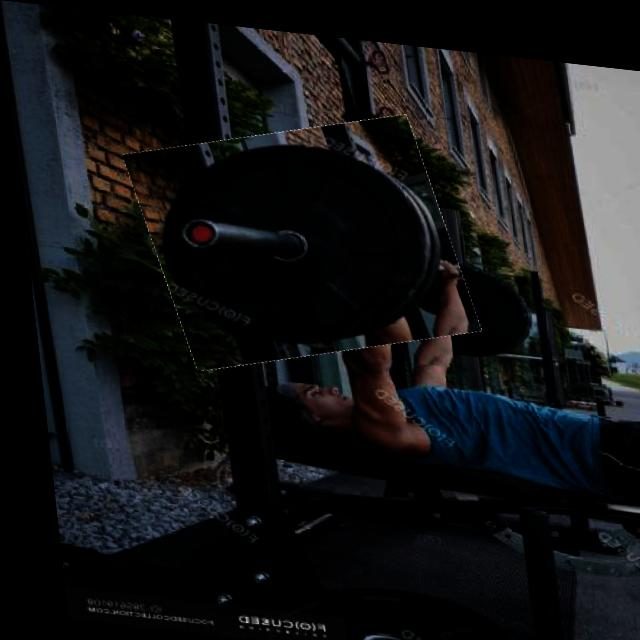barbell: (126, 98, 470, 376)
